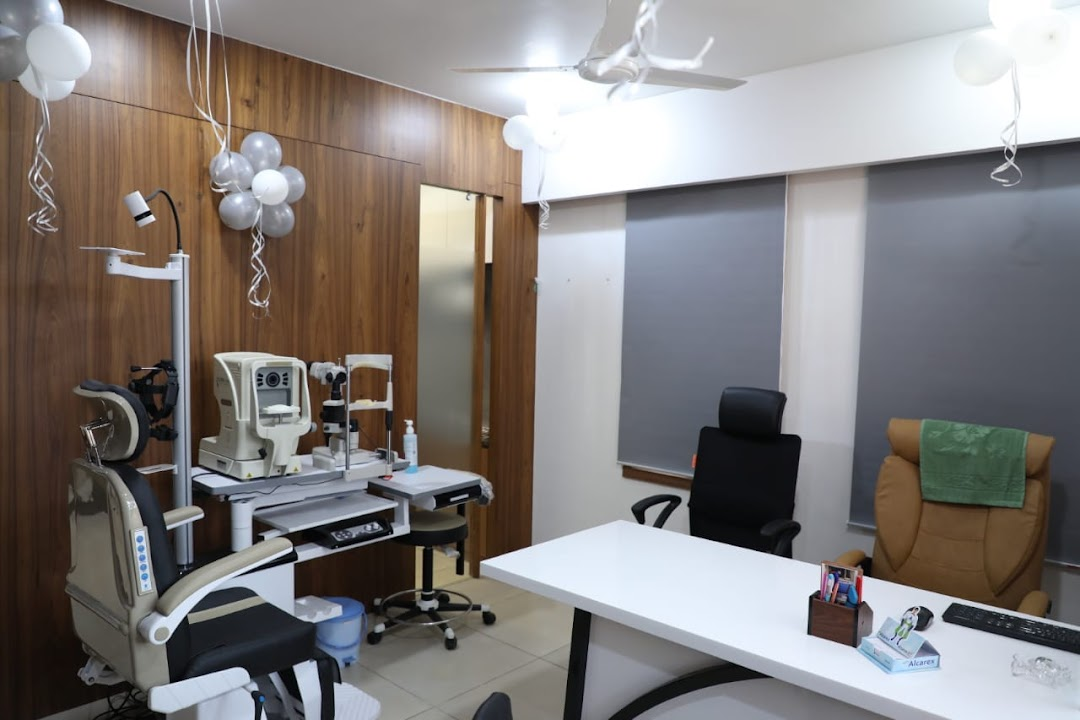chair: (65, 375, 313, 720), (830, 418, 1080, 622), (630, 384, 805, 556), (367, 509, 497, 651)
keyboard: (936, 601, 1080, 655)
table: (480, 526, 1080, 719)
waste_bin: (309, 598, 375, 670)
